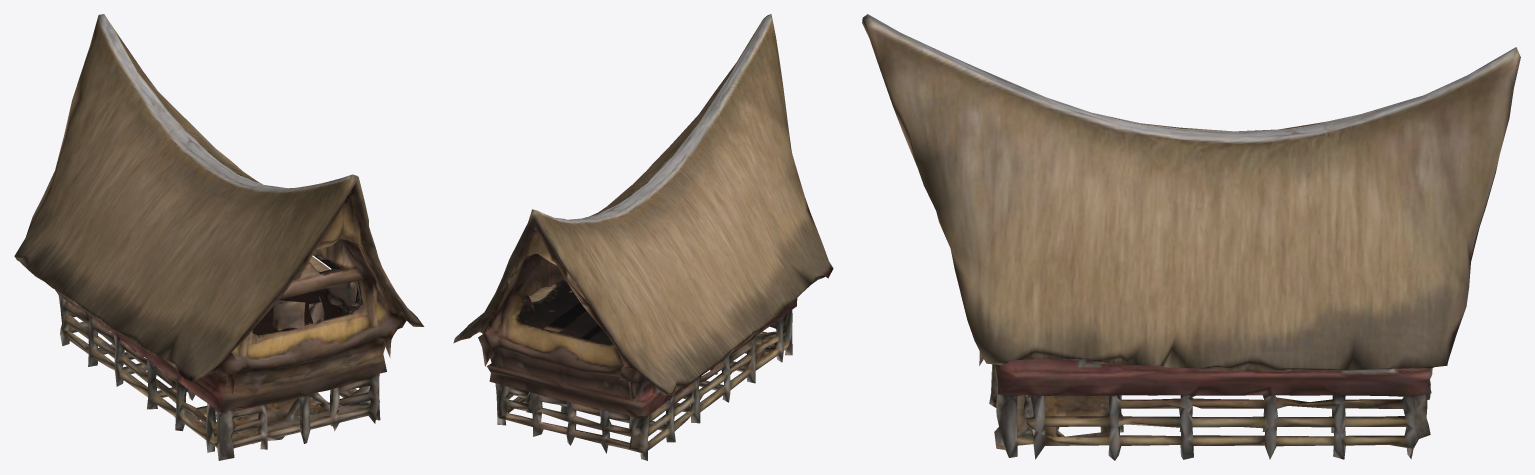
Rendered from adat_batak.glb.
3 views of the same model, side by side, from view 1: azimuth 30°, elevation 25°; view 2: azimuth 150°, elevation 25°; view 3: azimuth 270°, elevation 25° (orthographic). The views are drawn at different scales.
Visible parts, largest first — view 1: Mesh1.0; view 2: Mesh1.0; view 3: Mesh1.0.
Part boxes in pixels (x1=…): Mesh1.0: x1=14, y1=14, x2=424, y2=460; Mesh1.0: x1=453, y1=14, x2=833, y2=460; Mesh1.0: x1=862, y1=14, x2=1520, y2=460.
Bounding box in the file's own units: 0.8223 × 1 × 1.51.
Materials: 1 (1 with a texture image).
